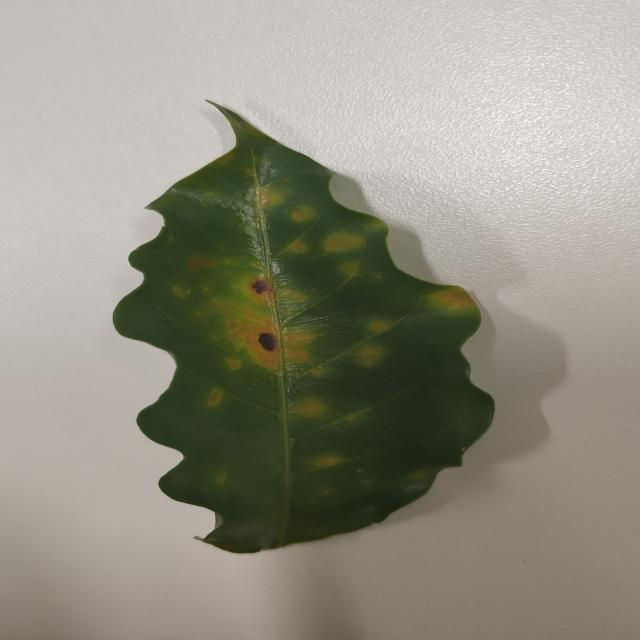Enfermedad-Roya: (111, 103, 497, 557)
